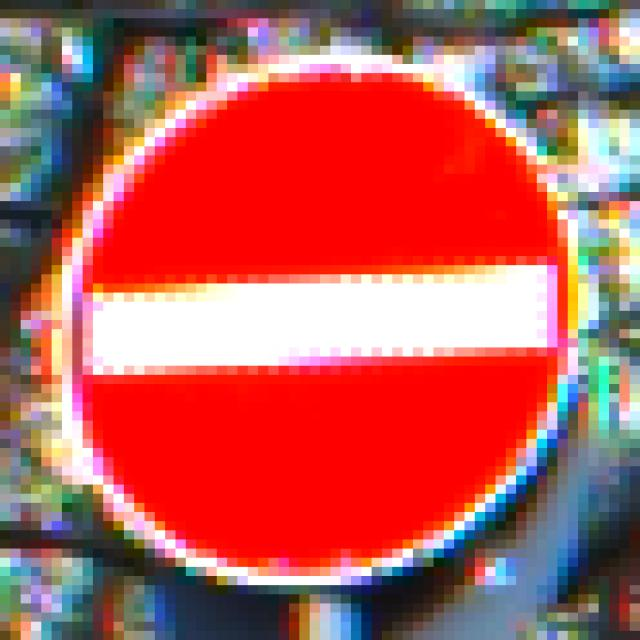No Entry: (53, 56, 590, 586)
